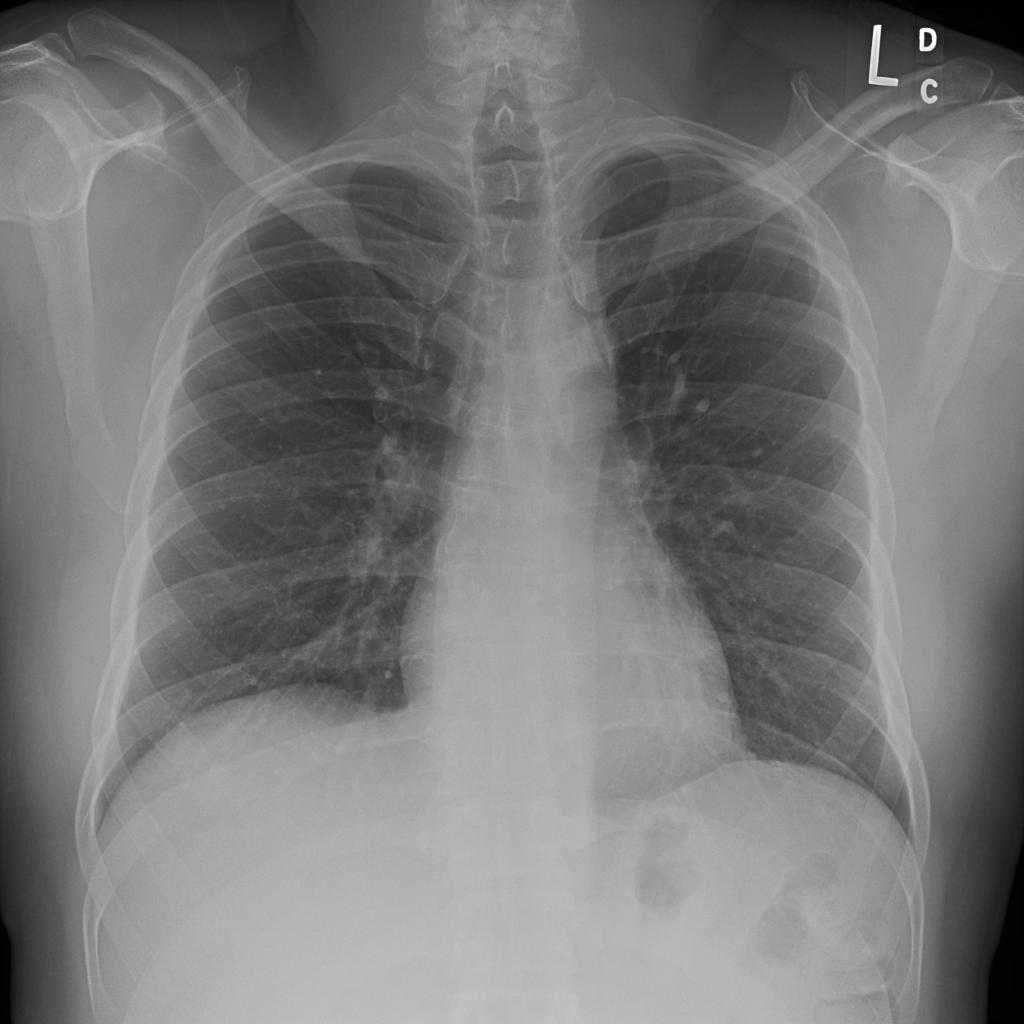Nodule: (355, 320, 404, 368)
